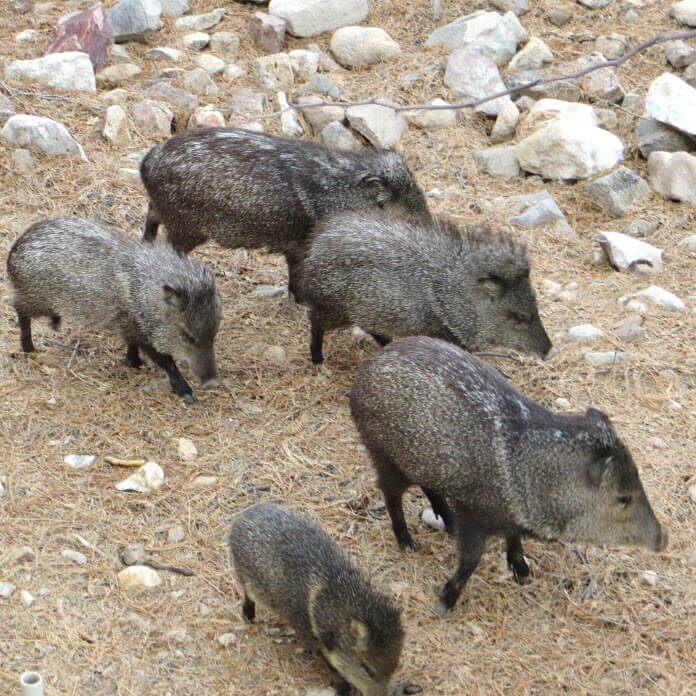javelina: (337, 319, 683, 622), (116, 83, 454, 299), (289, 181, 575, 373), (212, 468, 428, 696), (11, 210, 232, 403)
